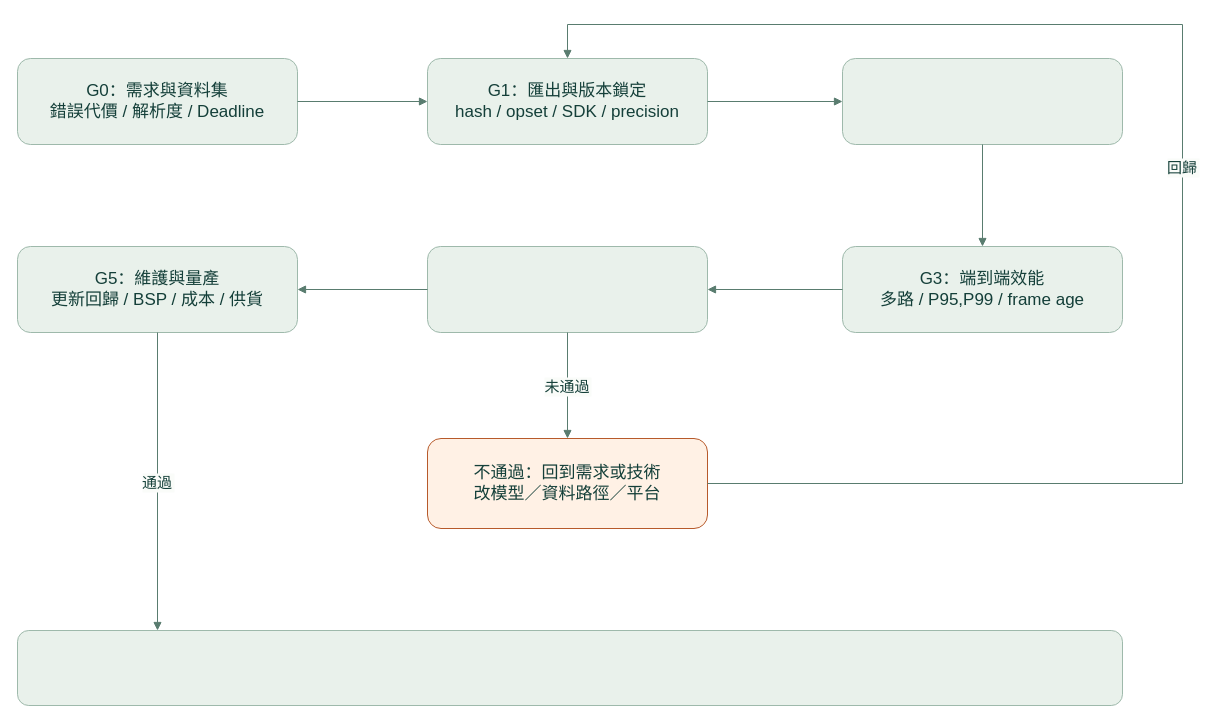
This 1216x723 diagram has some shape labels left out. Each missing label, with the centre of its shape:
"G2：編譯與量化 Gate op attribute / fallback / 精度" belongs at [982,101].
"G4：熱與併發壓力 功耗 / 降頻 / memory peak" belongs at [567,289].
"只有在硬性門檻全部通過後，才比較成本與工程投入。 PoC 用同一影像集、完整管線、固定版本與實際電源模式；合成資料只作補充。" belongs at [569,668].
